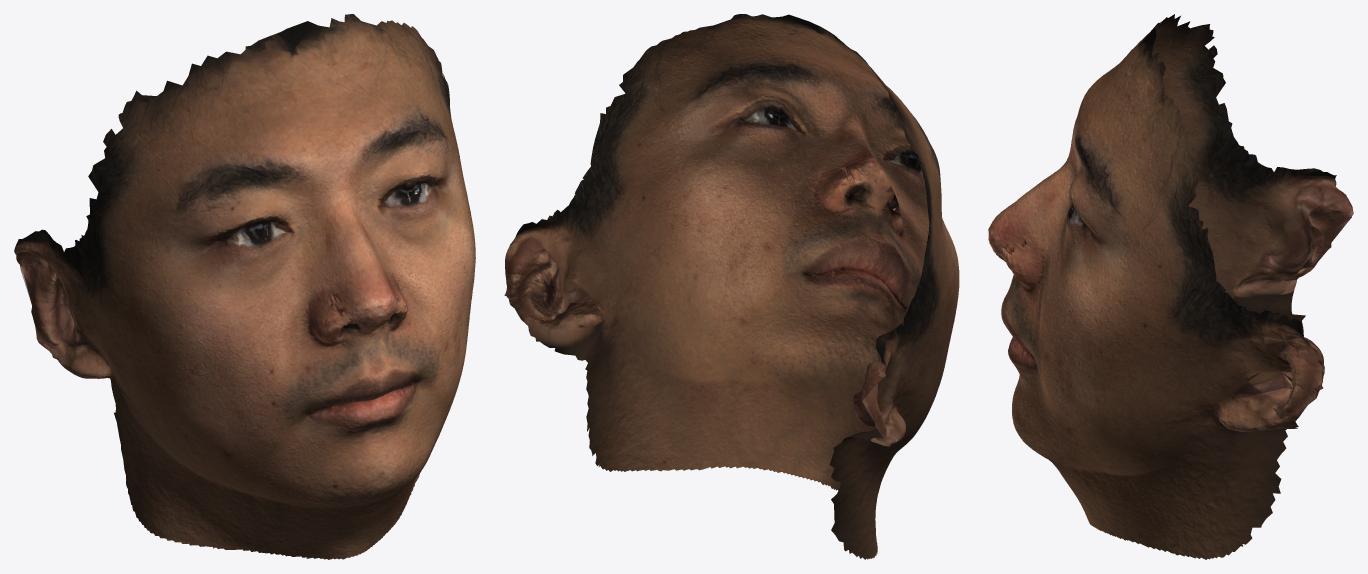
The model's file is predicted_face.obj.
3 views of the same model, side by side, from view 1: azimuth 30°, elevation 25°; view 2: azimuth 150°, elevation 25°; view 3: azimuth 270°, elevation 25° (orthographic). The views are drawn at different scales.
Size of the model in its own units: 0.1973 by 0.2391 by 0.1649.
1 material, 1 textured.
